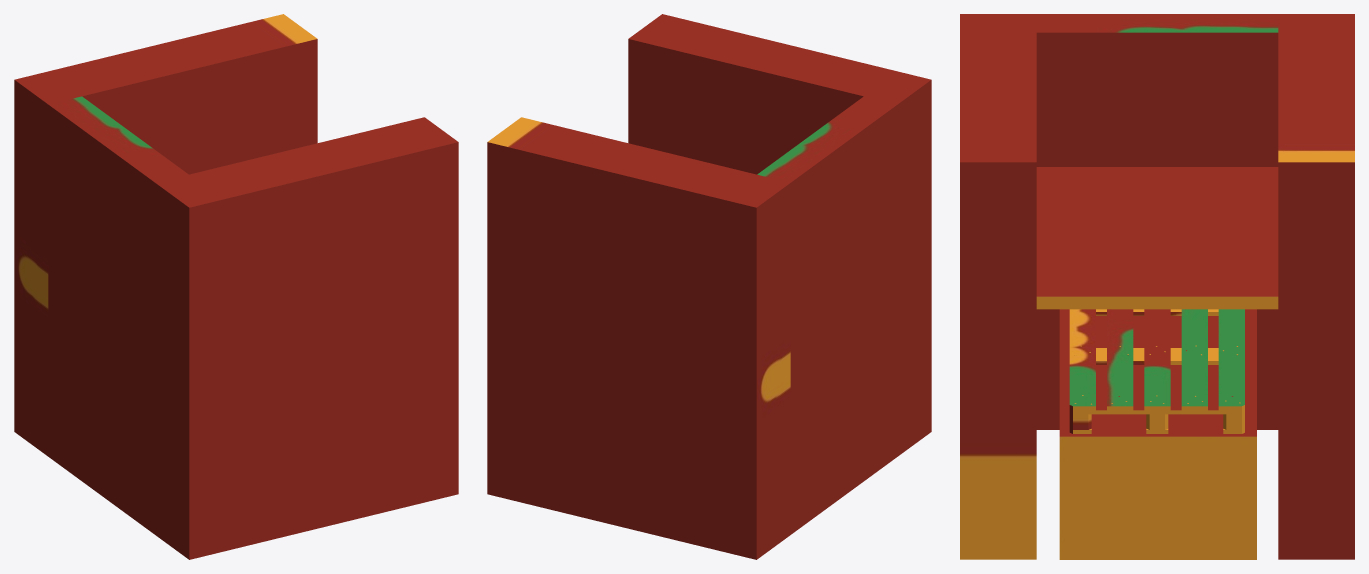
The model's file is usecase3_meshed_1strato.dae.
3 views of the same model, side by side, from view 1: azimuth 30°, elevation 25°; view 2: azimuth 150°, elevation 25°; view 3: azimuth 270°, elevation 25° (orthographic). The views are drawn at different scales.
Visible parts, largest first — view 1: usecase3_meshed_1strato; view 2: usecase3_meshed_1strato; view 3: usecase3_meshed_1strato.
Part boxes in pixels (bbox=[...]): usecase3_meshed_1strato: bbox=[14, 14, 458, 559]; usecase3_meshed_1strato: bbox=[487, 14, 931, 559]; usecase3_meshed_1strato: bbox=[960, 14, 1354, 559].
Size of the model in its own units: 1.6 by 1.8 by 2.
